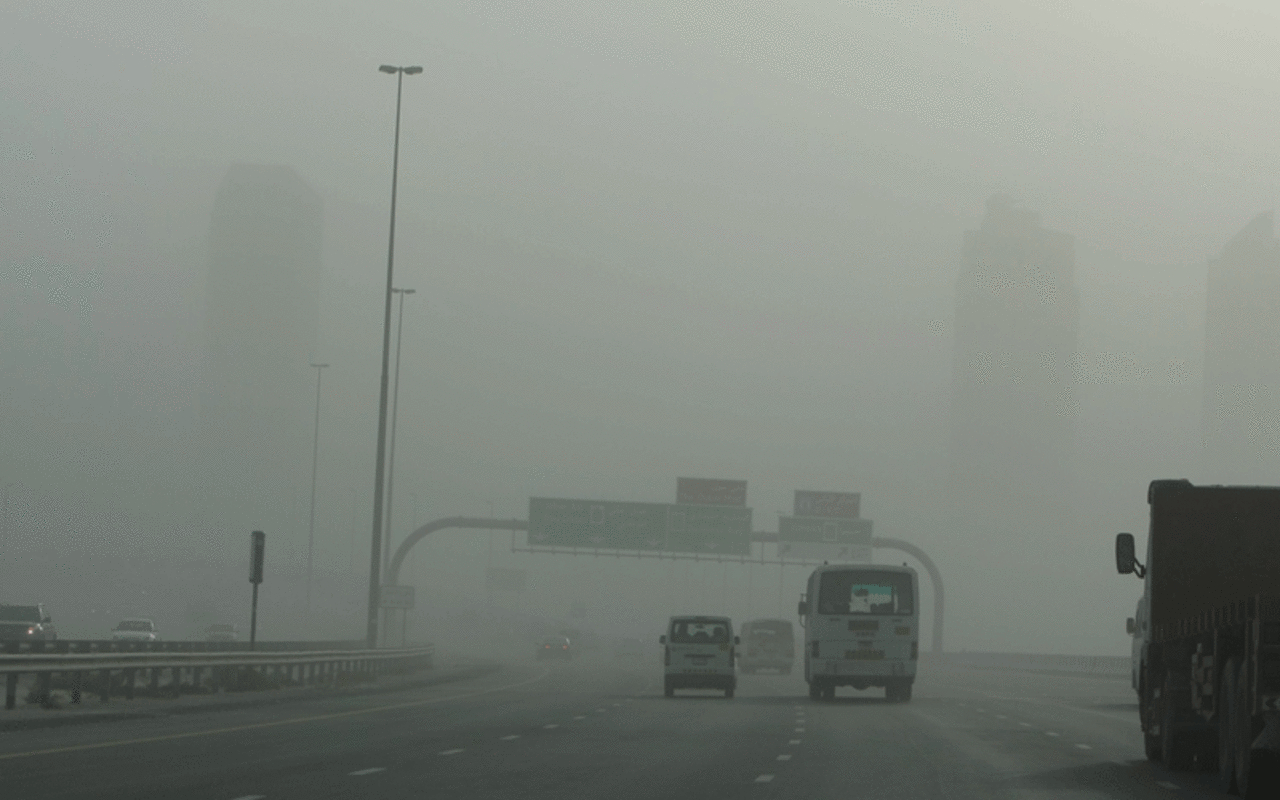bus: (798, 552, 925, 702), (738, 618, 793, 673)
car: (659, 616, 737, 697), (4, 599, 60, 639), (105, 613, 157, 644), (532, 632, 572, 661), (201, 616, 240, 638)
truck: (1129, 482, 1279, 782)
